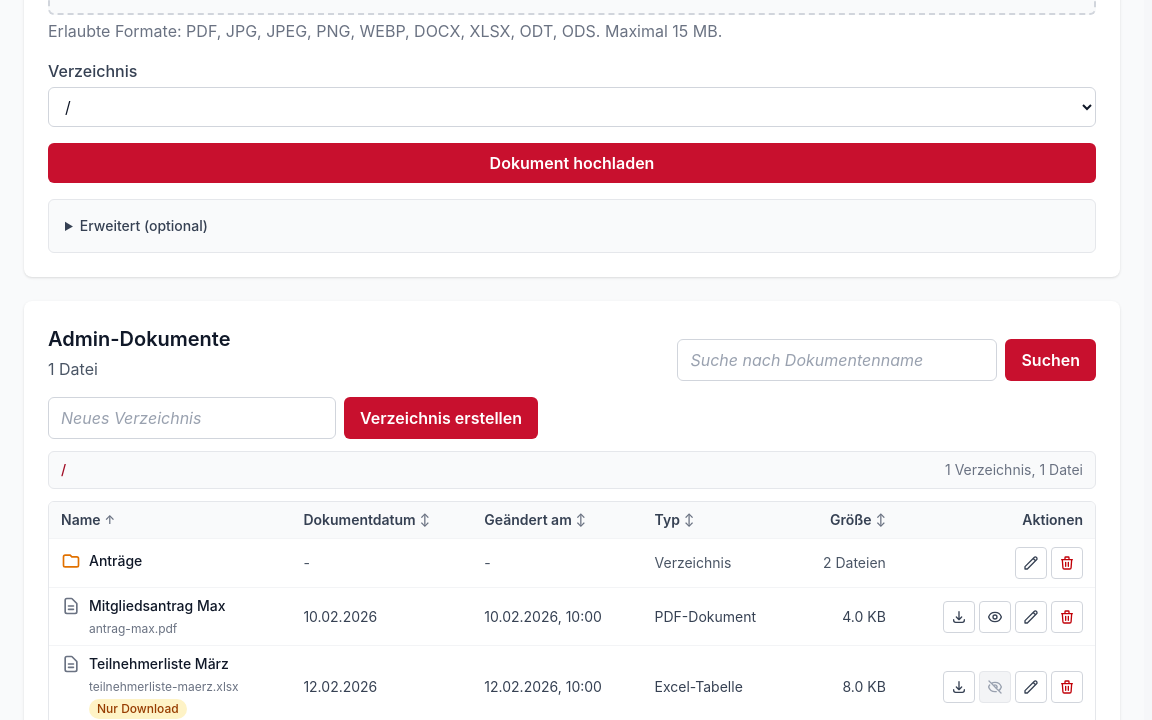
Test: AdminDocumentsPage › shows clear no-result message for active search
The image size is (1152, 720).
(page scrolled)
Check: the text "Mitgliedsantrag Max" is shown, box [61, 596, 226, 616]
In the field with placeholder "Suche nach Dokumentenname": (837, 360) [677, 339, 997, 381], type "ohnetreffer"
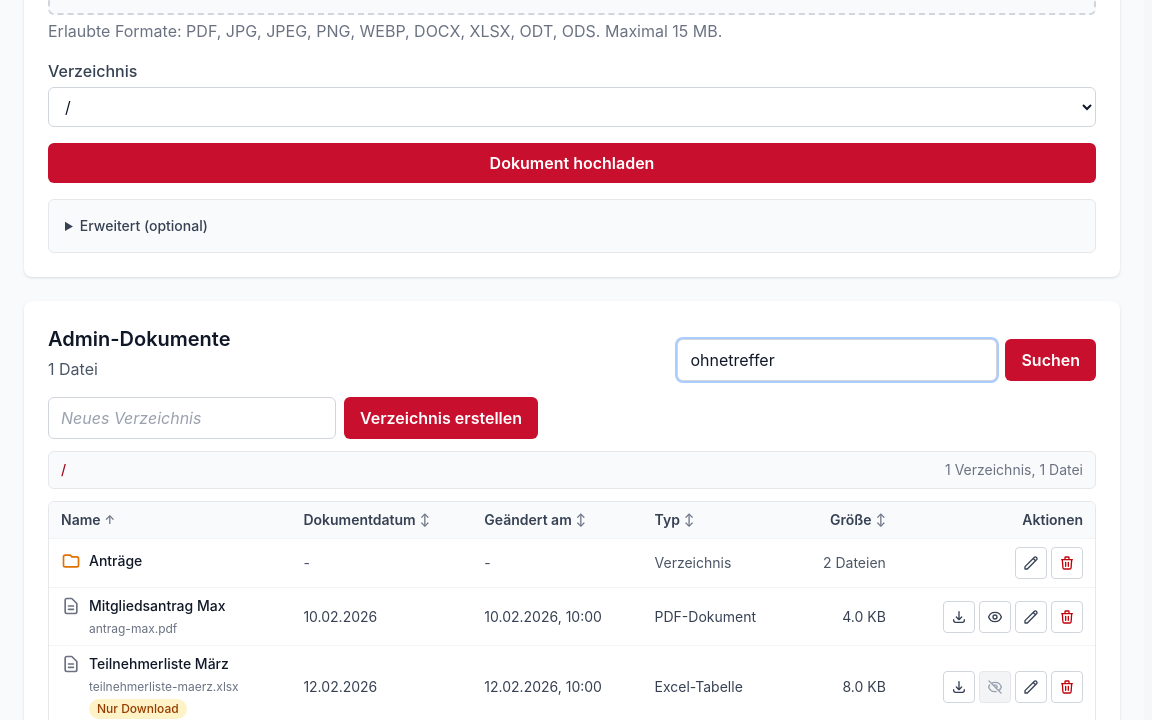
Click the button "Suchen": (1051, 360) [1005, 339, 1096, 381]
(page scrolled)
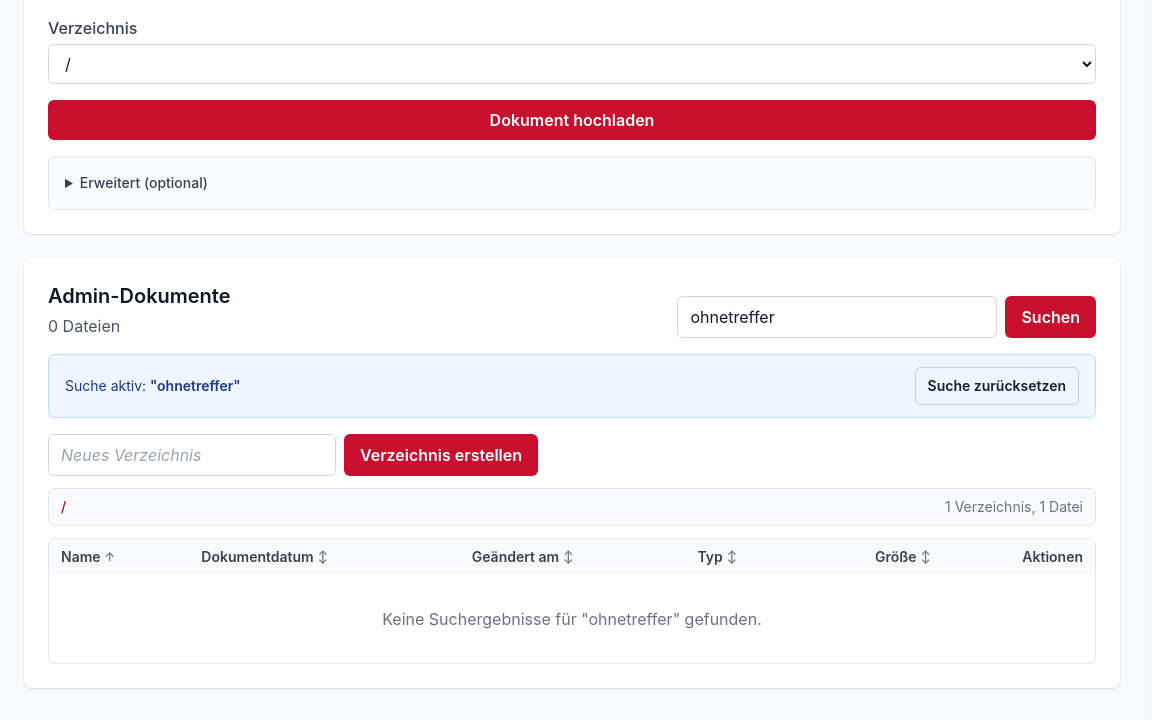
Check: the text "Keine Suchergebnisse für \"ohnetreffer\" gefunden." is shown, box [49, 575, 1095, 663]
